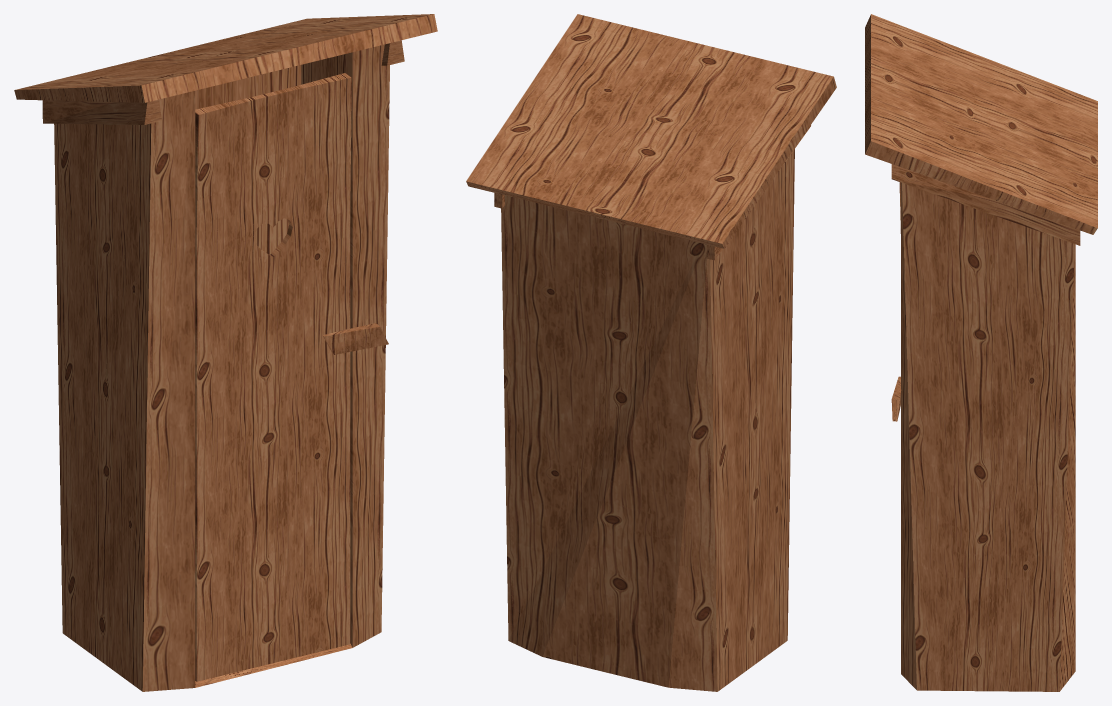
Rendered from kadibudka.fbx.
3 views of the same model, side by side, from view 1: azimuth 30°, elevation 25°; view 2: azimuth 150°, elevation 25°; view 3: azimuth 270°, elevation 25° (orthographic). The views are drawn at different scales.
Visible parts, largest first — view 1: pPlane2; view 2: pPlane2; view 3: pPlane2.
Part boxes in pixels (x1,y1,x2,y2): pPlane2: (14,14,437,691); pPlane2: (466,14,836,691); pPlane2: (865,14,1097,691).
Bounding box in the file's own units: 1.72 × 3.55 × 1.33.
2 materials, 2 textured.
